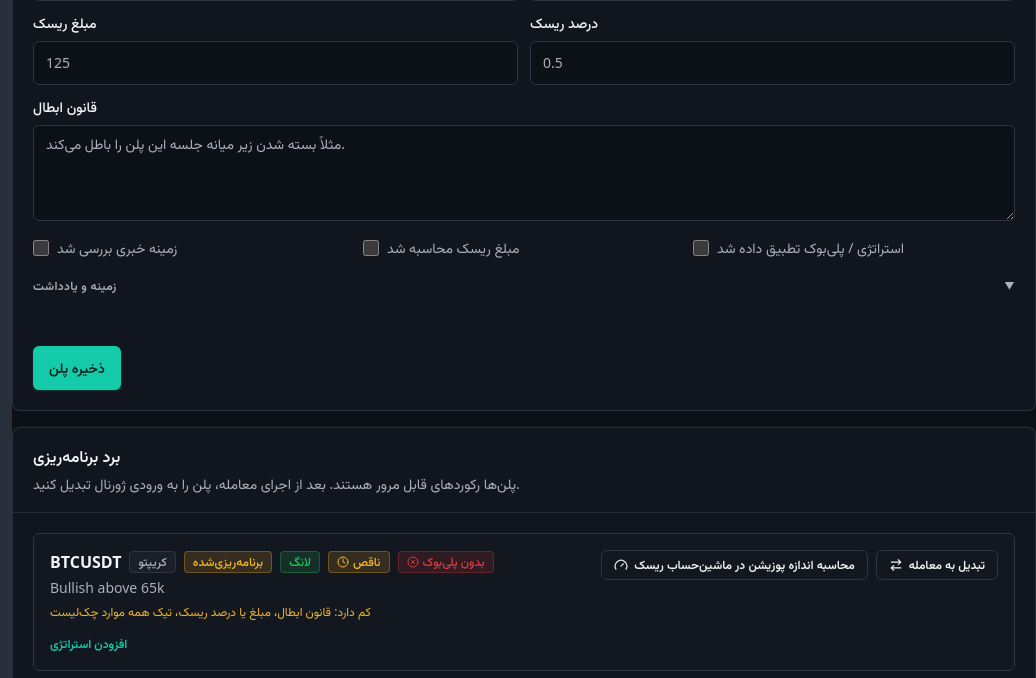
Test: a plan without a strategy can get one from the card › names the strategy field when the server refuses it, in the page language
This screenshot has width=1036, height=678.
(page scrolled)
Expected: the text "BTCUSDT" is shown, [50, 550, 121, 574]
Click the button "افزودن استراتژی" at (89, 644), box [50, 636, 127, 652]
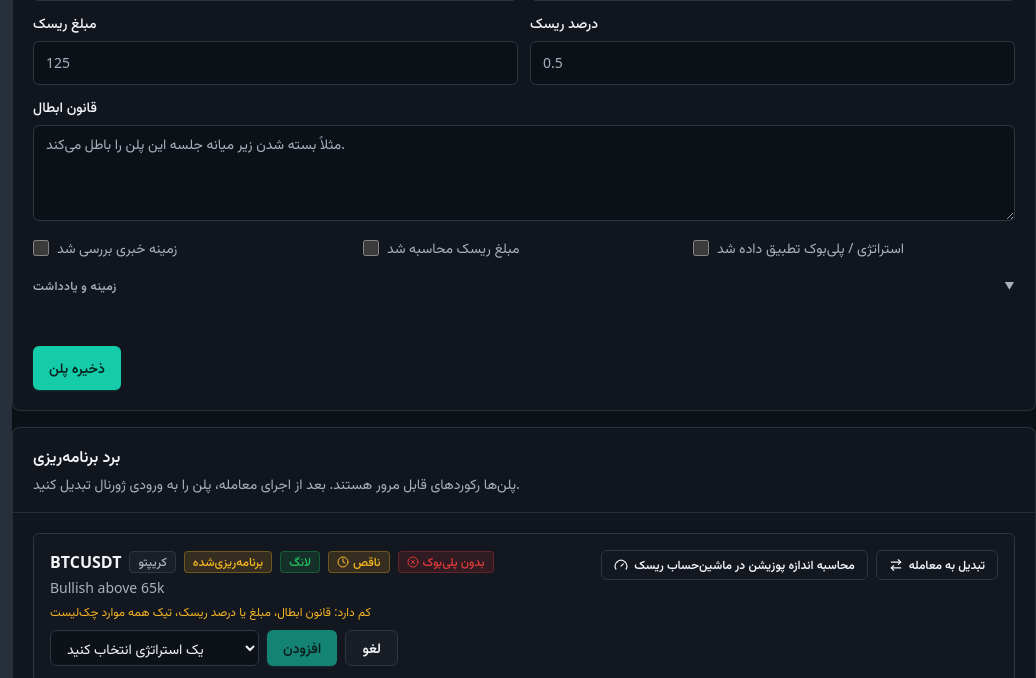
Select "Range fade" in the dropdown named "استراتژی برای BTCUSDT" at (154, 648), box [50, 630, 259, 666]
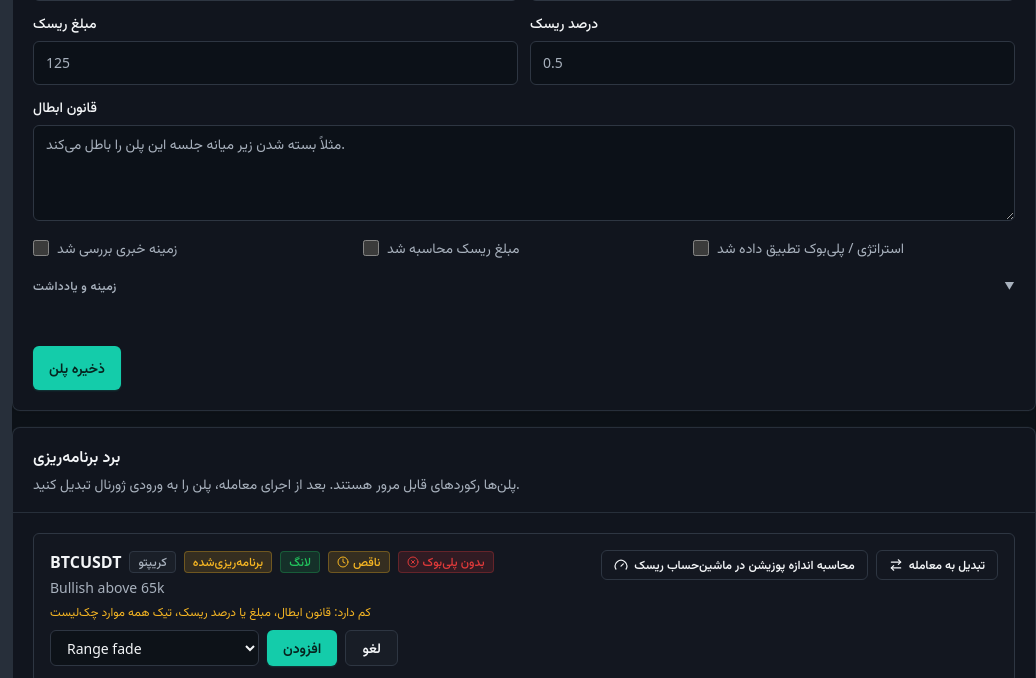
Click the button "افزودن" at (302, 648), box [267, 630, 337, 666]
(page scrolled)
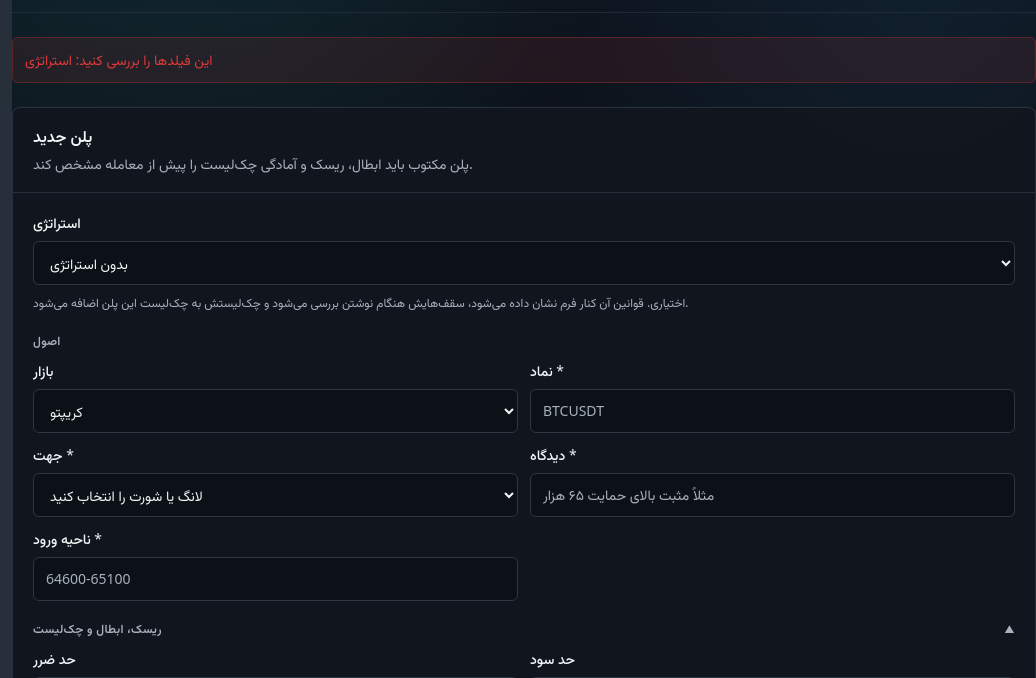
Expected: the message reads "این فیلدها را بررسی کنید: استراتژی", [25, 50, 212, 69]
